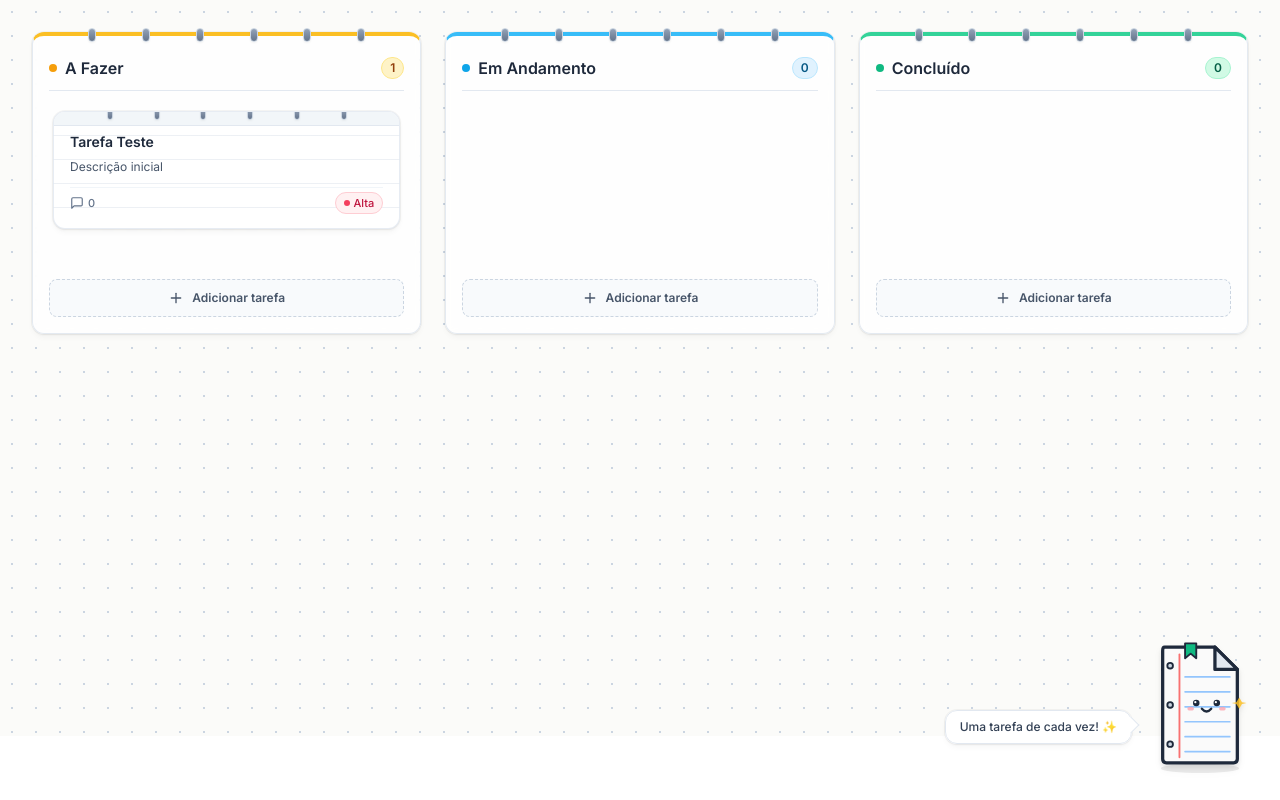
Test: PaginaQuadro › exclui uma tarefa existente
Step 1. Click the heading "Tarefa Teste" → (112, 142), box [70,133,154,150]
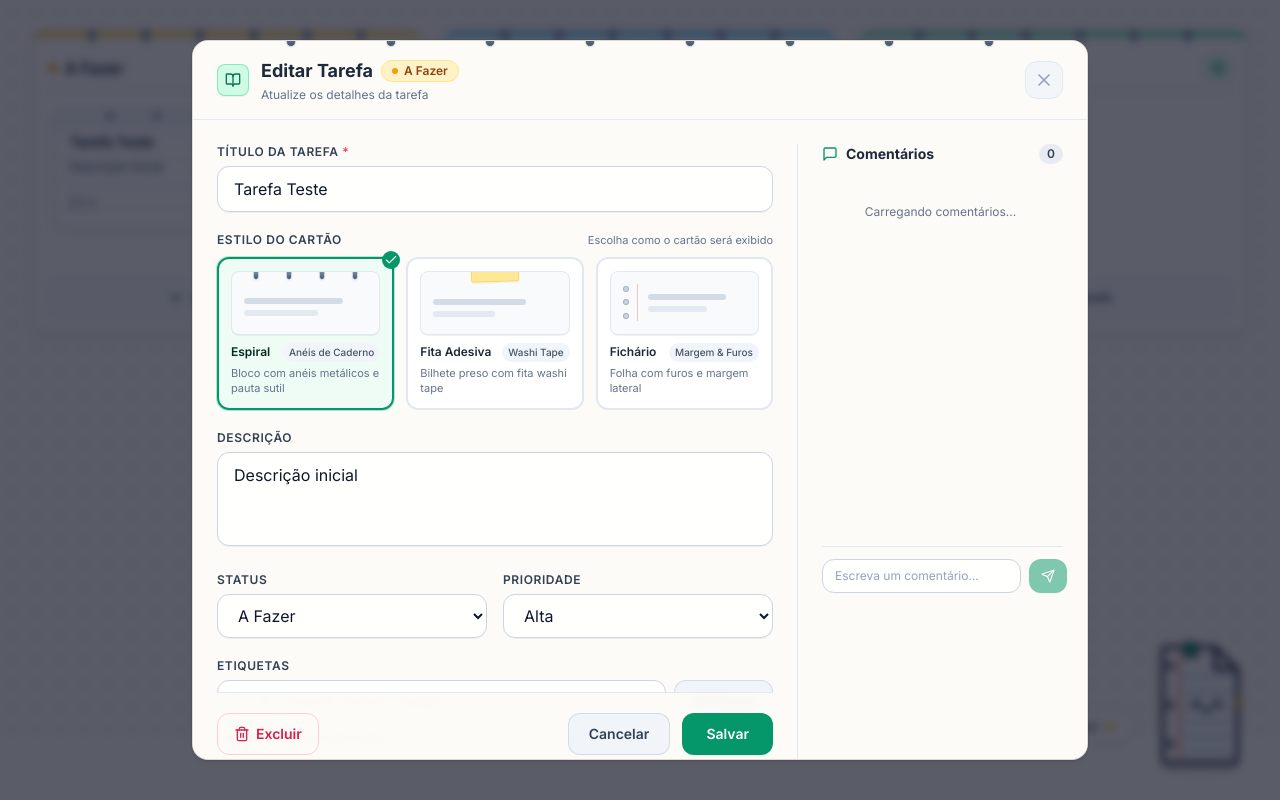
Step 2. Click the button "Excluir" → (268, 734), box [217,713,319,755]
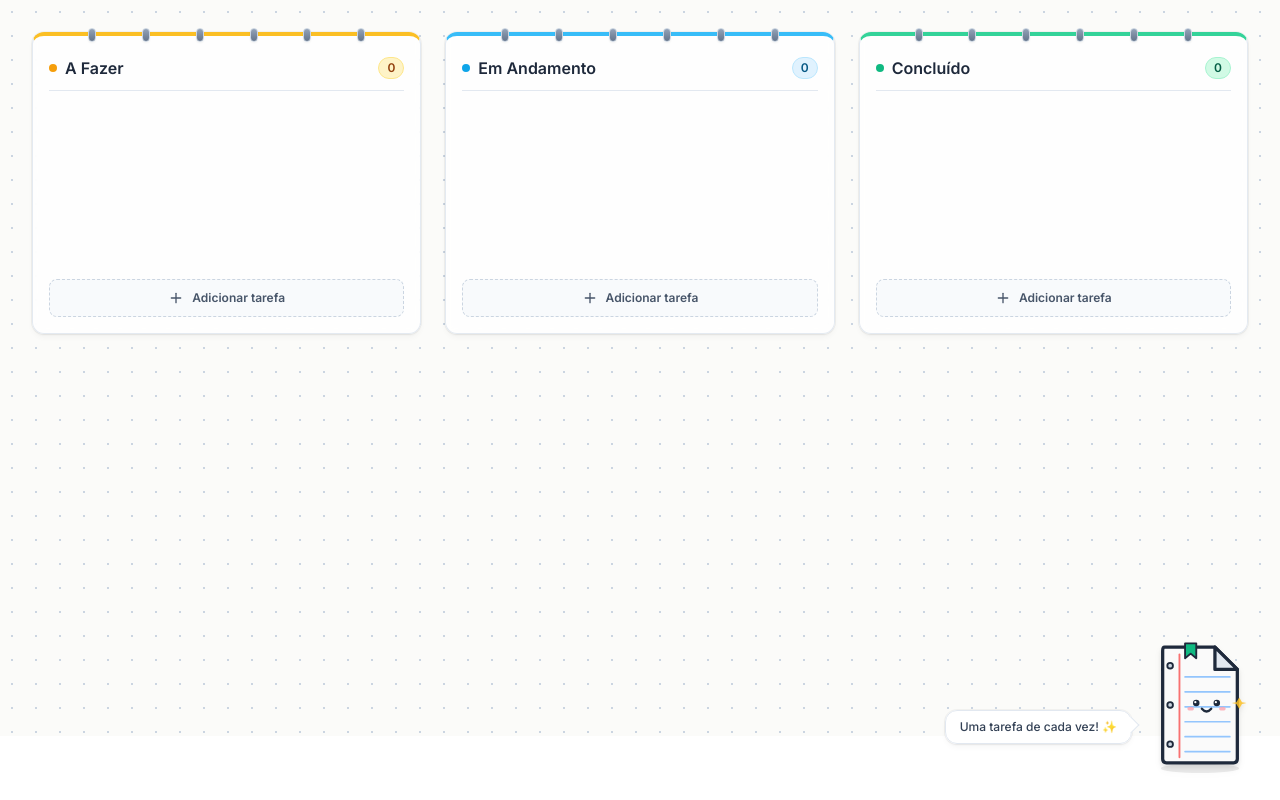
Result: the button "Tarefa Teste" is gone
